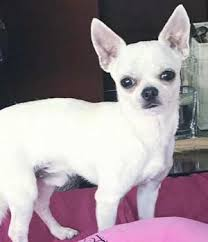chihuahua: (2, 4, 192, 235)
